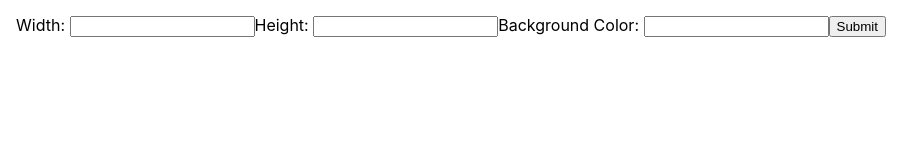
Test case: removes box when clicking remove button
The image size is (903, 164).
Expected: the text "X" is not shown
Step 1. Type "100" into the field labelled "Width:" → (162, 26), box left=70, top=16, right=254, bottom=37
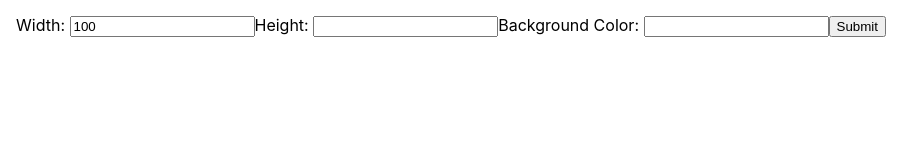
Step 2. Type "100" into the field labelled "Height:" → (406, 26), box left=313, top=16, right=498, bottom=37
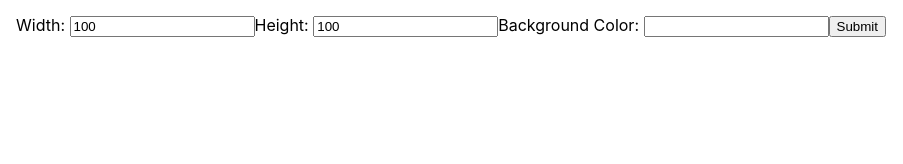
Step 3. Type "red" into the field labelled "Background Color:" → (736, 26), box left=644, top=16, right=828, bottom=37
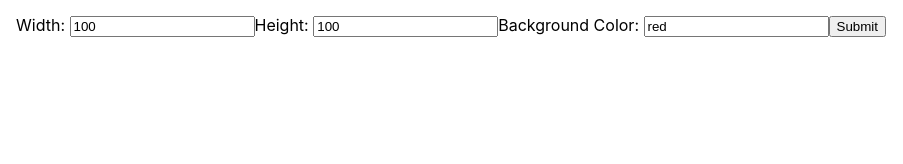
Step 4. Click the button "Submit" → (857, 26), box left=828, top=16, right=886, bottom=37
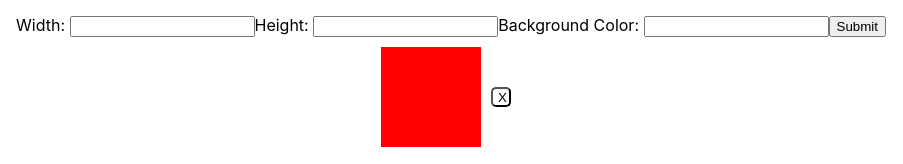
Step 5. Click the button "X" → (501, 97), box left=491, top=87, right=511, bottom=107
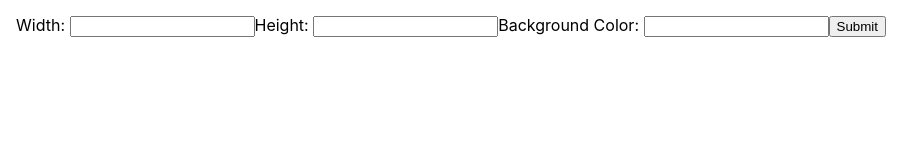
Result: the element with test id "box" is gone
